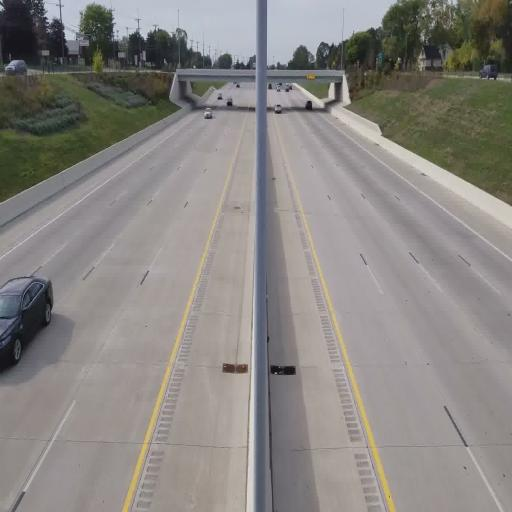Car: (0, 274, 54, 366), (4, 60, 27, 76), (479, 64, 499, 80), (204, 108, 213, 119)
